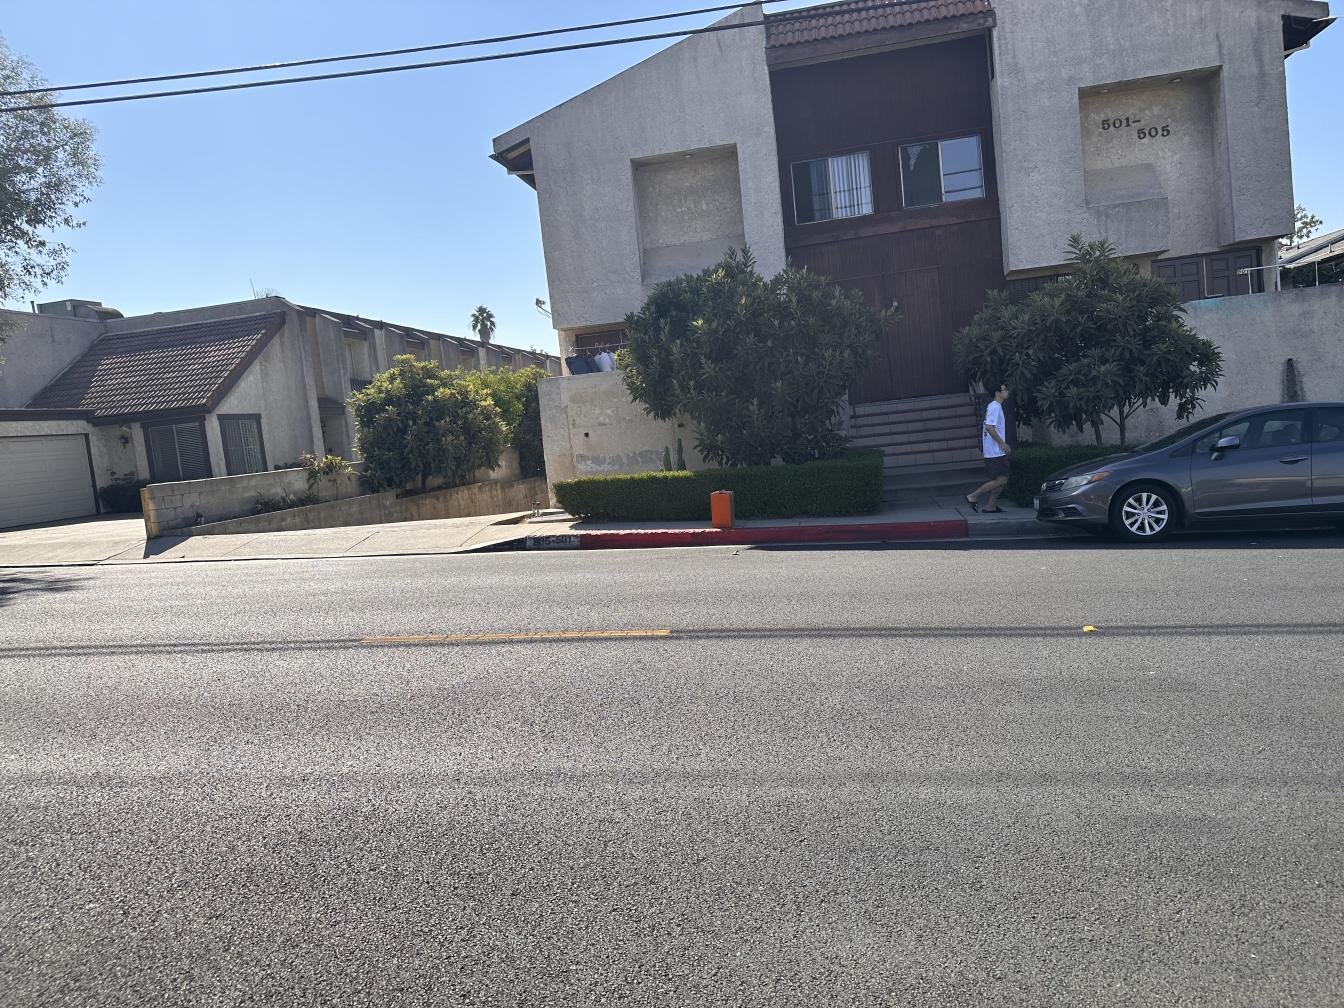curbs-laRr: (971, 520, 1024, 539)
orange box: (711, 491, 734, 528)
